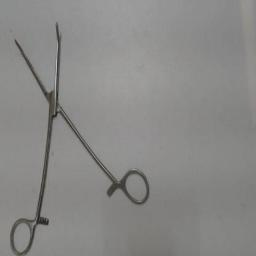Lahey Forceps: (4, 16, 154, 256)
